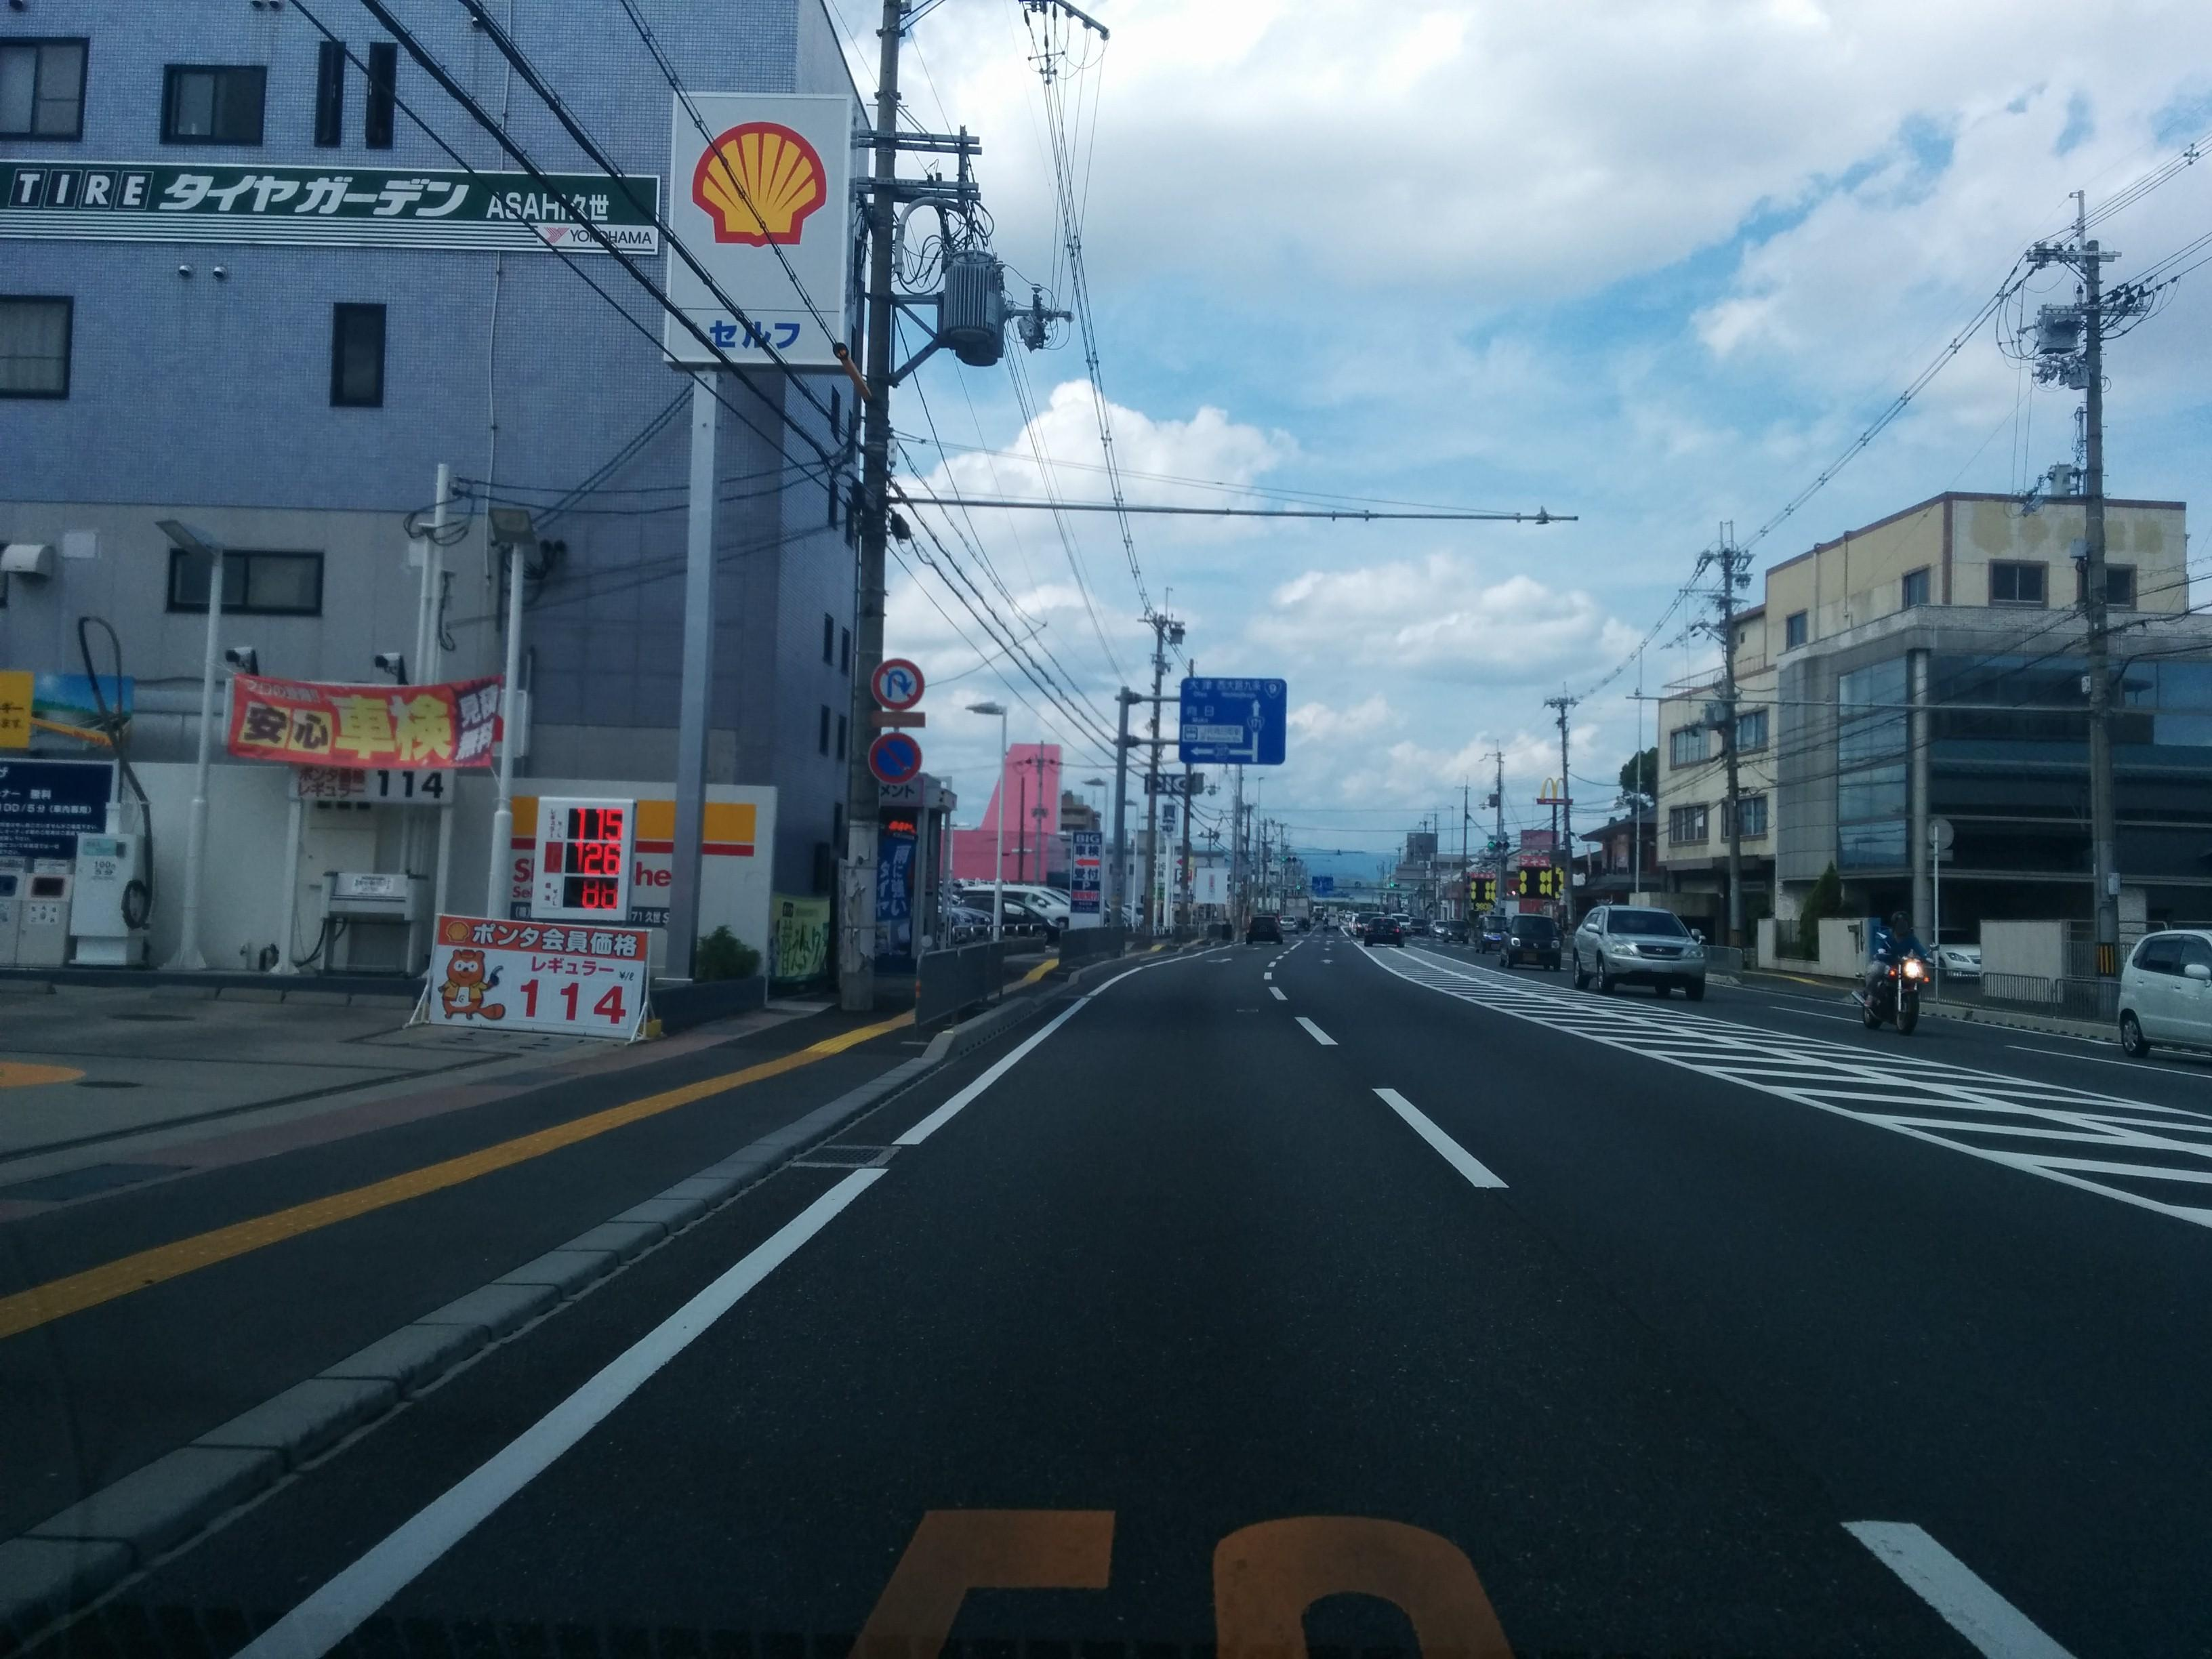vinyl banner: (200, 634, 516, 796), (427, 889, 664, 1032)
